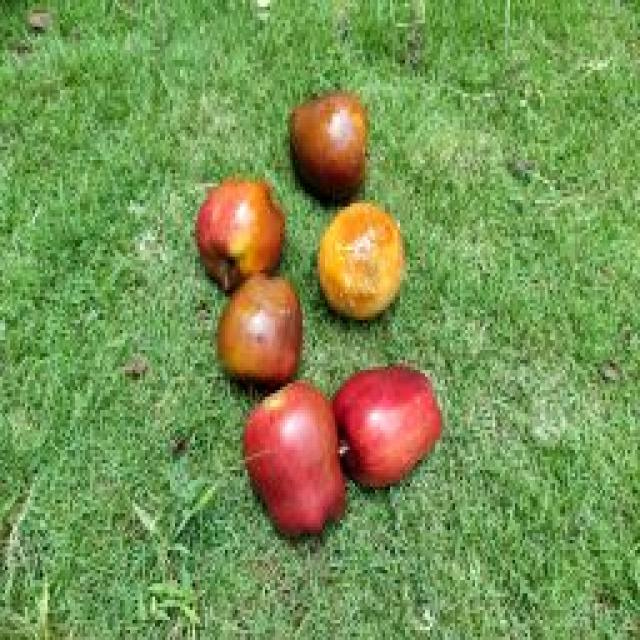Organik: (235, 368, 351, 534), (323, 354, 459, 490), (310, 194, 424, 329), (180, 168, 294, 286), (279, 81, 387, 202), (202, 271, 315, 385)
